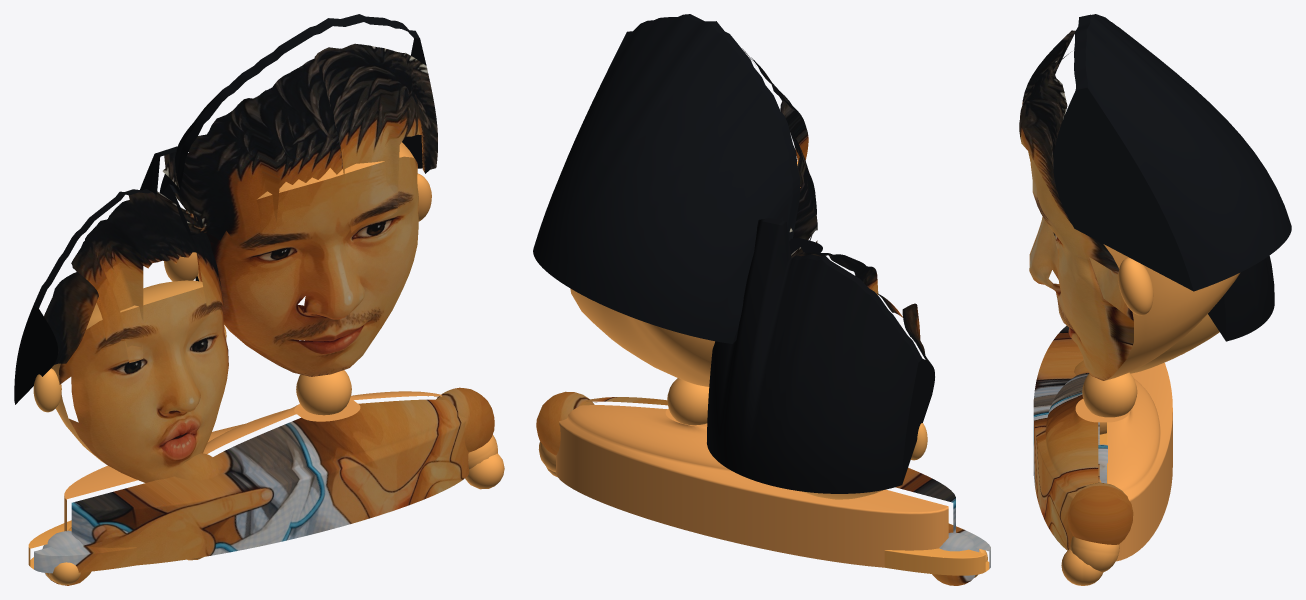
Rendered from portrait.glb.
The picture shows the model from 3 angles, left to right: view 1: azimuth 30°, elevation 25°; view 2: azimuth 150°, elevation 25°; view 3: azimuth 270°, elevation 25°; orthographic projection.
Visible parts, largest first — view 1: figure-surface-14, figure-surface-10, figure-surface-5, figure-surface-8, figure-surface-17, figure-surface-9, figure-surface-11, figure-surface-1, figure-surface-6, figure-surface-15, figure-surface-12; view 2: figure-surface-16, figure-surface-7, figure-surface-11, figure-surface-15, figure-surface-10, figure-surface-8, figure-surface-14, figure-surface-2, figure-surface-17, figure-surface-9, figure-surface-5, figure-surface-1 (+1 smaller); view 3: figure-surface-16, figure-surface-14, figure-surface-17, figure-surface-10, figure-surface-11, figure-surface-15, figure-surface-9, figure-surface-7, figure-surface-6, figure-surface-5, figure-surface-12, figure-surface-8 (+1 smaller).
Boxes of the visible parts, x1,y1,x2,y2 form: figure-surface-14: [173, 43, 437, 376]; figure-surface-10: [71, 387, 494, 565]; figure-surface-5: [44, 151, 228, 482]; figure-surface-8: [15, 146, 198, 404]; figure-surface-17: [162, 14, 426, 235]; figure-surface-9: [187, 370, 504, 560]; figure-surface-11: [64, 391, 441, 531]; figure-surface-1: [34, 530, 136, 585]; figure-surface-6: [33, 280, 226, 463]; figure-surface-15: [164, 142, 431, 281]; figure-surface-12: [294, 398, 360, 421]; figure-surface-16: [533, 15, 792, 343]; figure-surface-7: [707, 220, 918, 493]; figure-surface-11: [556, 405, 948, 567]; figure-surface-15: [570, 161, 800, 386]; figure-surface-10: [536, 391, 955, 533]; figure-surface-8: [758, 218, 934, 483]; figure-surface-14: [742, 48, 817, 242]; figure-surface-2: [884, 548, 985, 575]; figure-surface-17: [630, 14, 822, 343]; figure-surface-9: [538, 378, 709, 476]; figure-surface-5: [789, 227, 930, 363]; figure-surface-1: [932, 523, 990, 585]; figure-surface-16: [1085, 14, 1291, 291]; figure-surface-14: [1019, 30, 1133, 380]; figure-surface-17: [1053, 14, 1193, 291]; figure-surface-10: [1033, 325, 1133, 550]; figure-surface-11: [1108, 362, 1172, 561]; figure-surface-15: [1103, 244, 1239, 380]; figure-surface-9: [1061, 372, 1137, 585]; figure-surface-7: [1224, 255, 1274, 341]; figure-surface-6: [1129, 314, 1219, 373]; figure-surface-5: [1089, 257, 1133, 320]; figure-surface-12: [1075, 399, 1130, 422]; figure-surface-8: [1208, 295, 1225, 340].
Size of the model in its own units: 2.73 by 2.88 by 1.42.
18 materials, 4 textured.
